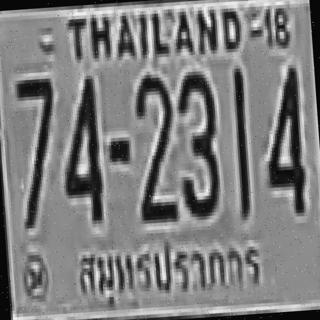N01: (229, 67, 251, 219)
N02: (132, 70, 178, 220)
N03: (172, 67, 220, 218)
N04: (260, 63, 306, 213), (57, 72, 103, 222)
N07: (14, 75, 60, 225)
P57: (70, 224, 270, 318)
